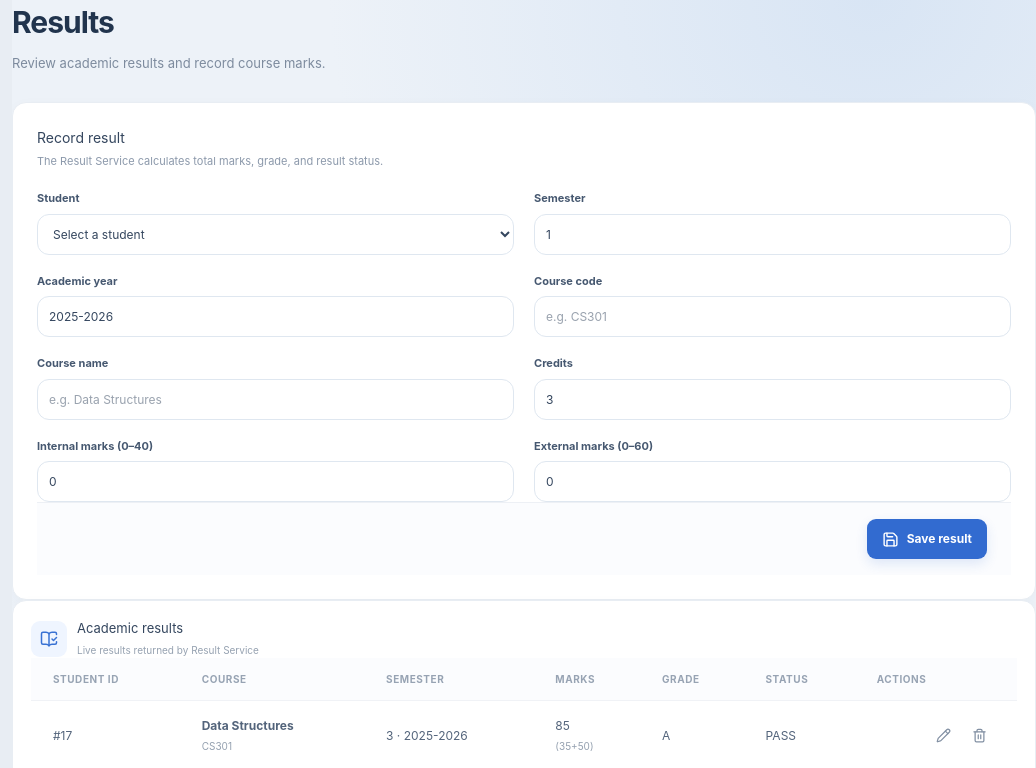
Attendance and Results integrations › loads result records and sends marks using the ResultRequestDTO fields
The width and height of the screenshot is (1036, 768).
Check: the text "Data Structures" is shown, box left=202, top=718, right=294, bottom=733
Select "Asha Rao · #17" in the dropdown labelled "Student". click: (276, 234)
box: left=37, top=214, right=514, bottom=255
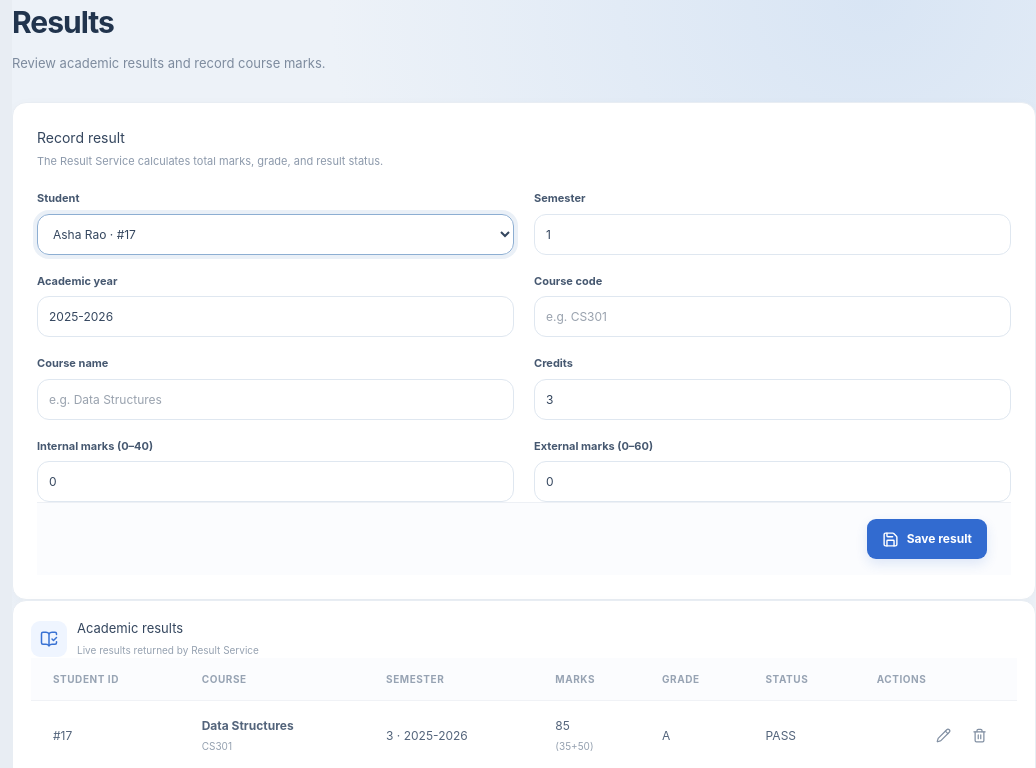
Type "CS302" into the field labelled "Course code". click: (772, 317)
box: left=534, top=296, right=1011, bottom=337
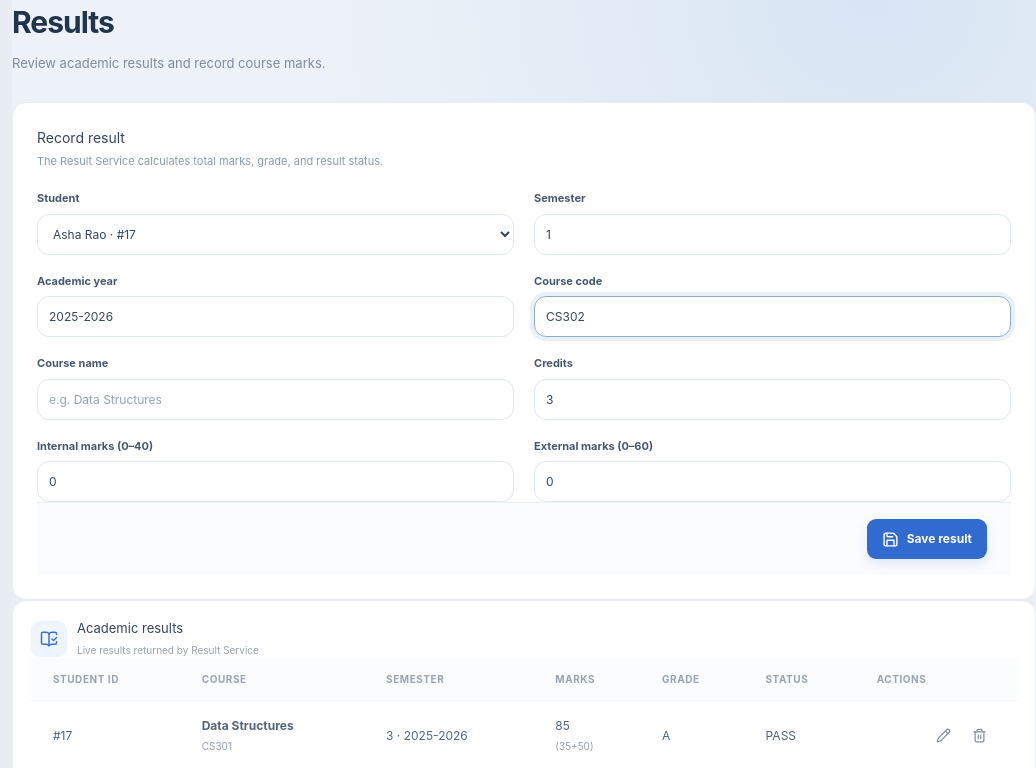
Type "Algorithms" into the field labelled "Course name". click: (276, 399)
box: left=37, top=379, right=514, bottom=420
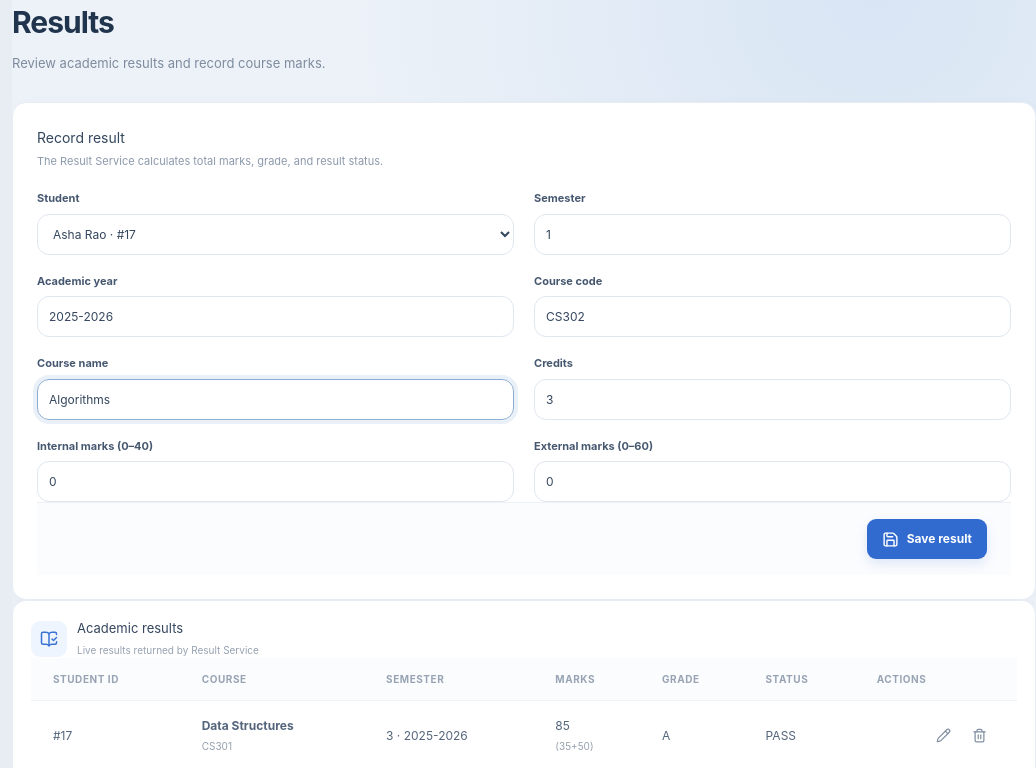
Replace the text in the number field labelled "Internal marks (0–40)" with "32". click: (276, 482)
box: left=37, top=461, right=514, bottom=502
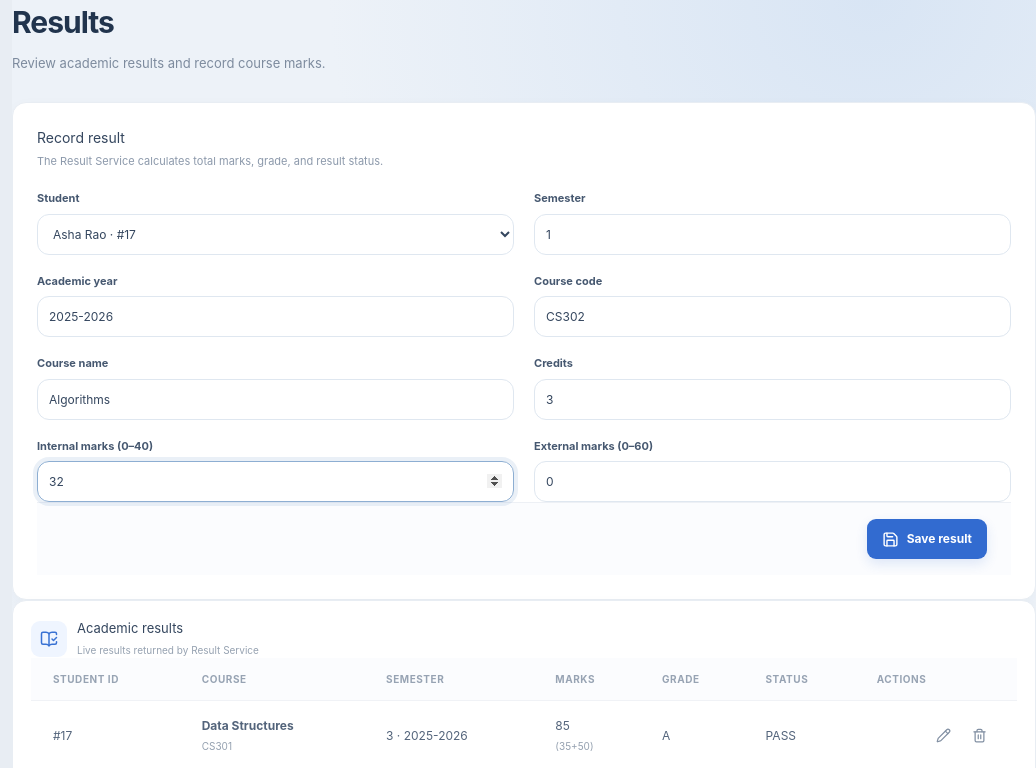
Replace the text in the number field labelled "External marks (0–60)" with "45". click: (772, 482)
box: left=534, top=461, right=1011, bottom=502
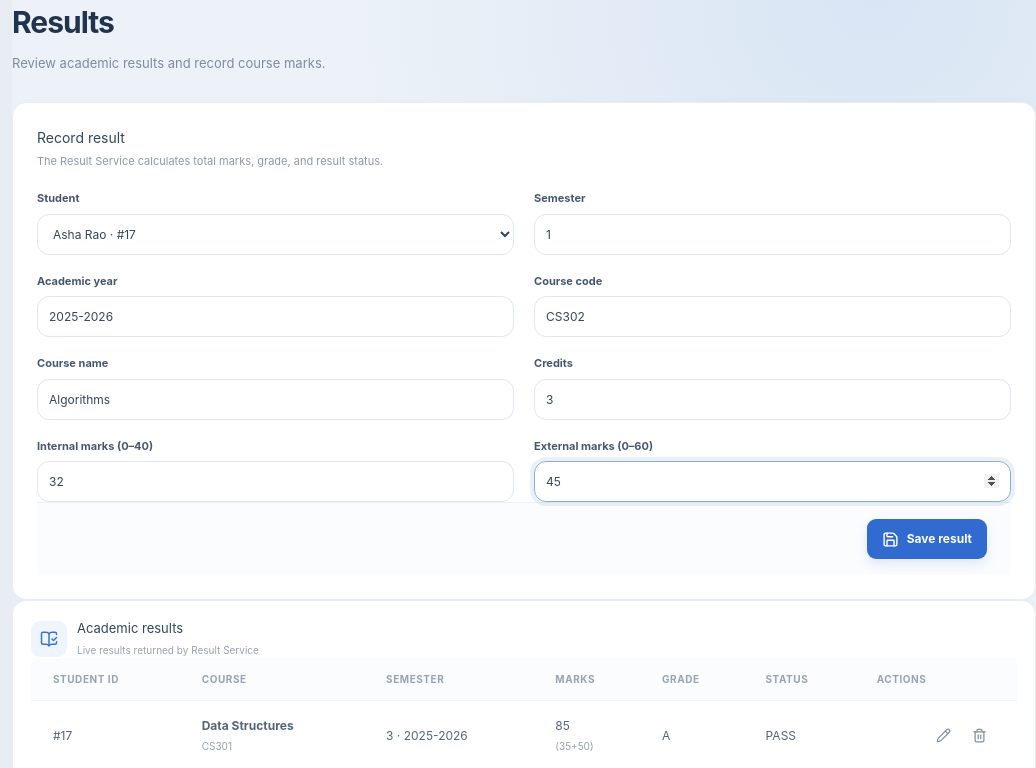
Click the button "Save result". click: (927, 539)
box: left=867, top=519, right=987, bottom=559
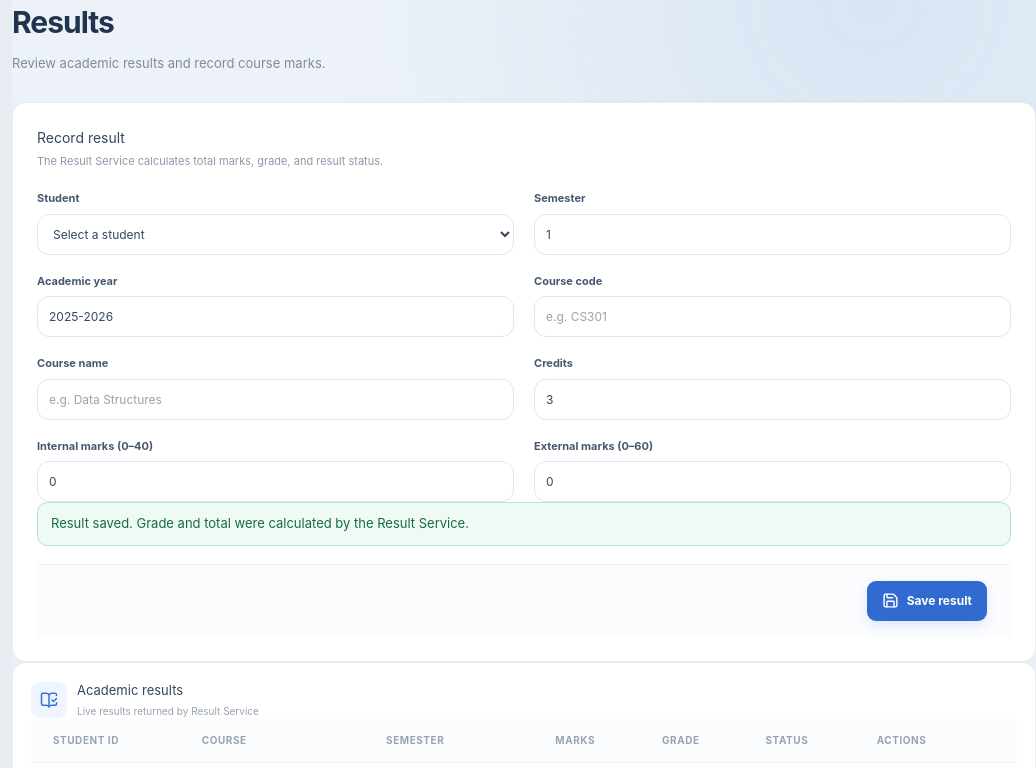
Check: the message shows "Grade and total were calculated by the Result Service.", box left=51, top=515, right=469, bottom=531
